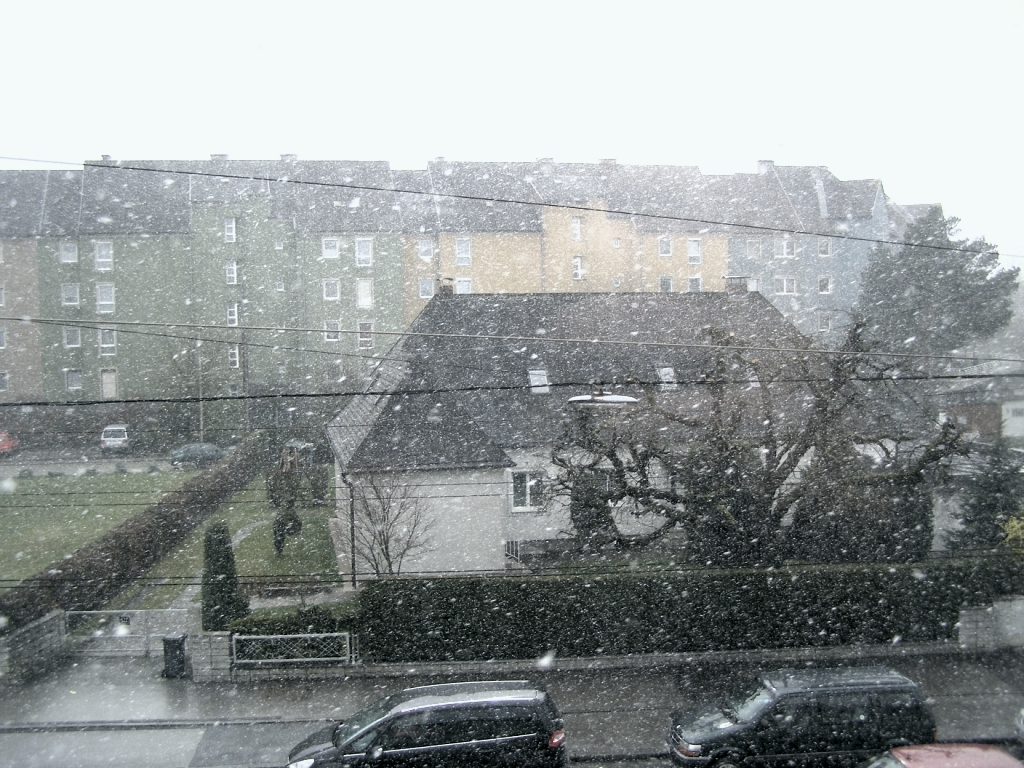Car: (668, 664, 935, 767), (295, 677, 581, 768), (99, 426, 129, 446)
